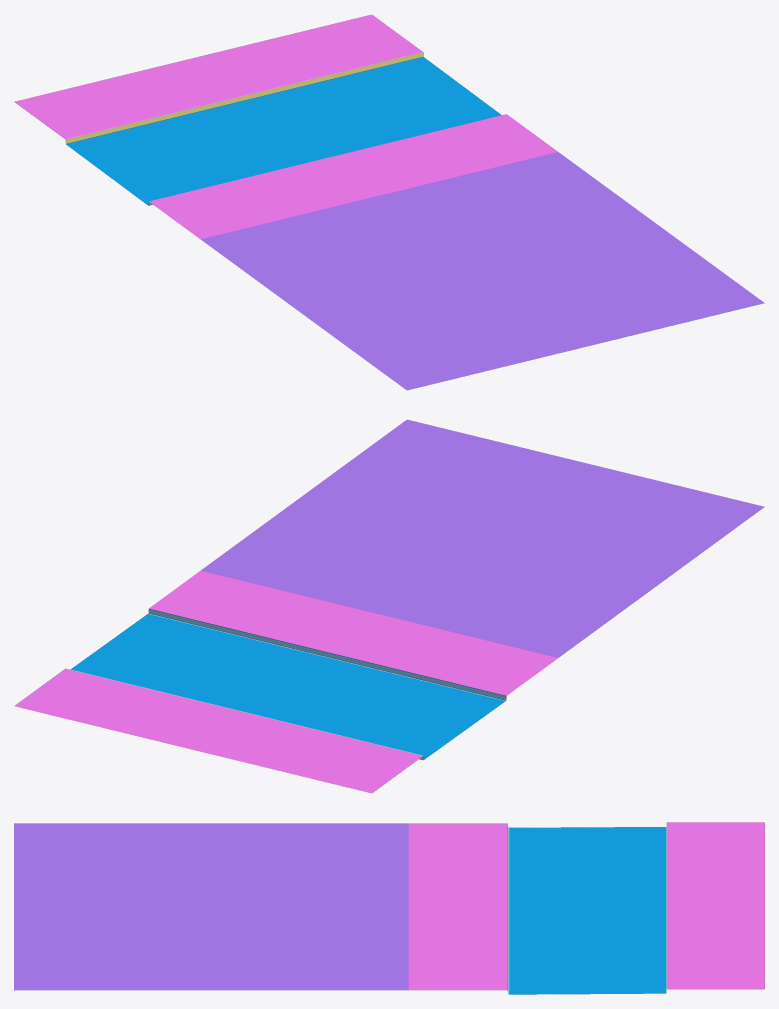
The model's file is Teste_Rua_Textura.fbx.
3 views of the same model, one above another, from view 1: azimuth 30°, elevation 25°; view 2: azimuth 150°, elevation 25°; view 3: azimuth 270°, elevation 25° (orthographic). The views are drawn at different scales.
Parts seen in each view (by area): view 1: plane; view 2: plane; view 3: plane.
Boxes of the visible parts, x1,y1,x2,y2 form: plane: [14, 14, 764, 390]; plane: [15, 419, 764, 793]; plane: [14, 822, 764, 994].
Bounding box in the file's own units: 2000 × 30.52 × 3803.
1 material, 1 textured.
